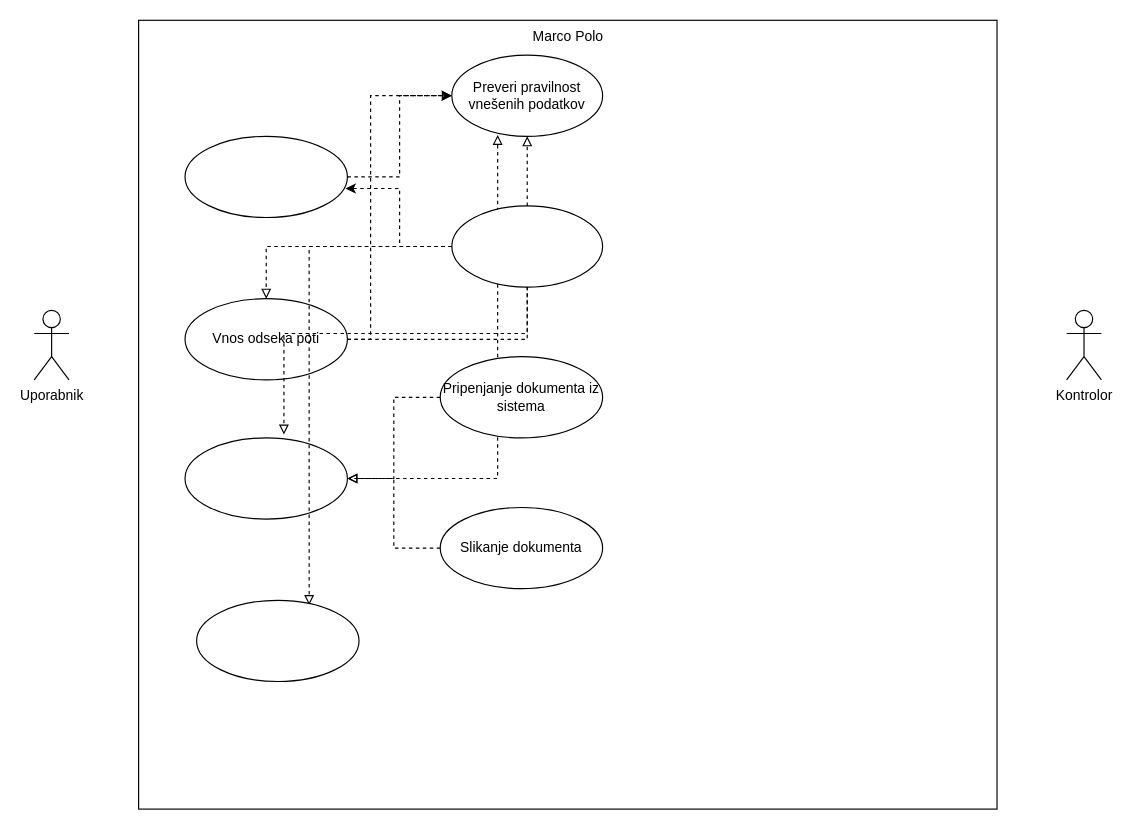
Some shapes in this 1132 by 829 pixel diagram are drawn without their labels. Each missing label, with the centre of its shape:
"Pregled dokumenta" belongs at [277,640].
"Sporočilo o napaki" belongs at [527,246].
"Vnos dokumentov" belongs at [265,478].
"Vnos poti" belongs at [265,176].
